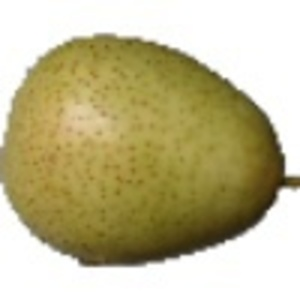pera: (1, 33, 300, 269)
